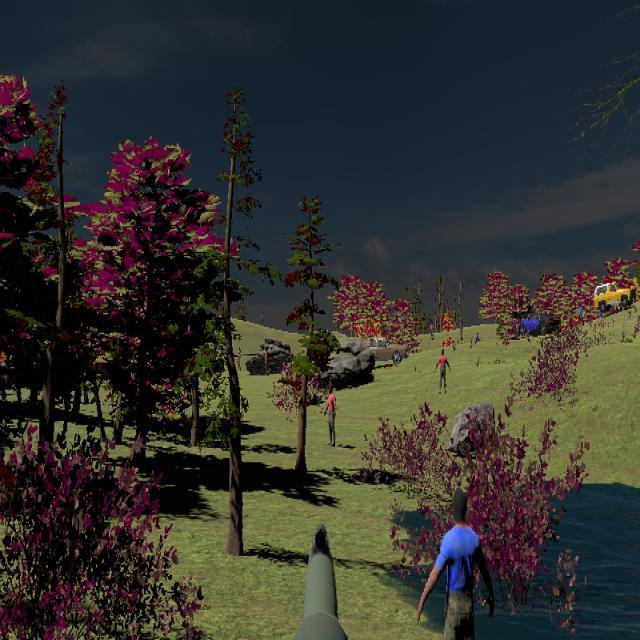Human: (417, 485, 495, 640), (324, 382, 337, 447), (434, 348, 450, 395)
Tank: (234, 345, 294, 375)
car: (594, 281, 637, 313), (366, 337, 408, 367), (520, 309, 562, 338)
